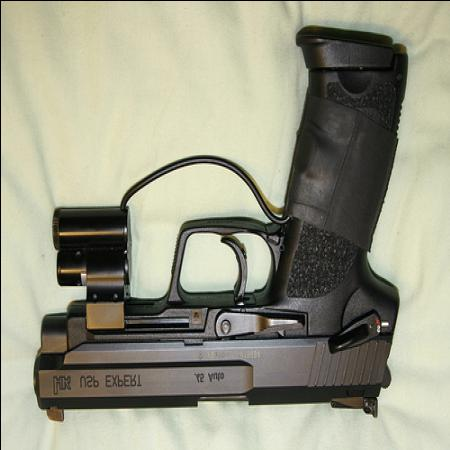Pistol: (30, 28, 406, 424)
